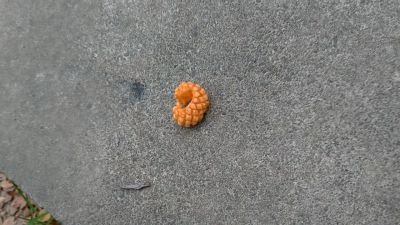eggs: (171, 80, 211, 130)
